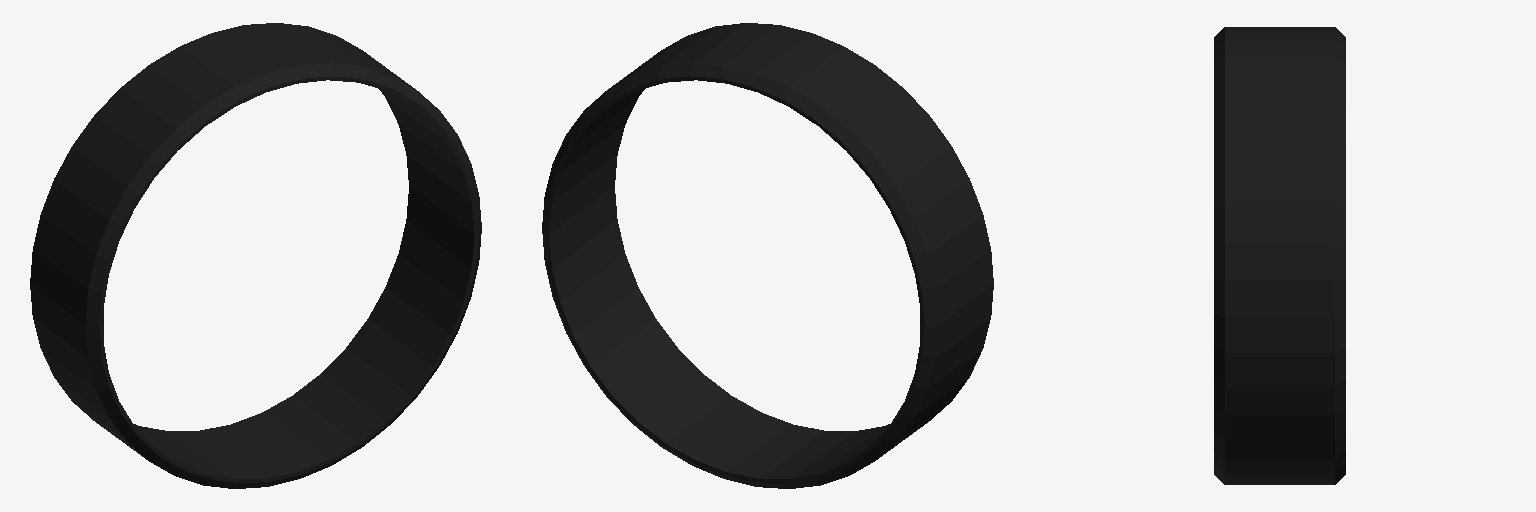
Rendered from j2n6s300_link_6_visuals_mesh_1.obj.
3 renders of one model, left to right at view 1: azimuth 30°, elevation 25°; view 2: azimuth 150°, elevation 25°; view 3: azimuth 270°, elevation 25°, orthographic.
Size of the model in its own units: 0.0681 by 0.0679 by 0.0195.